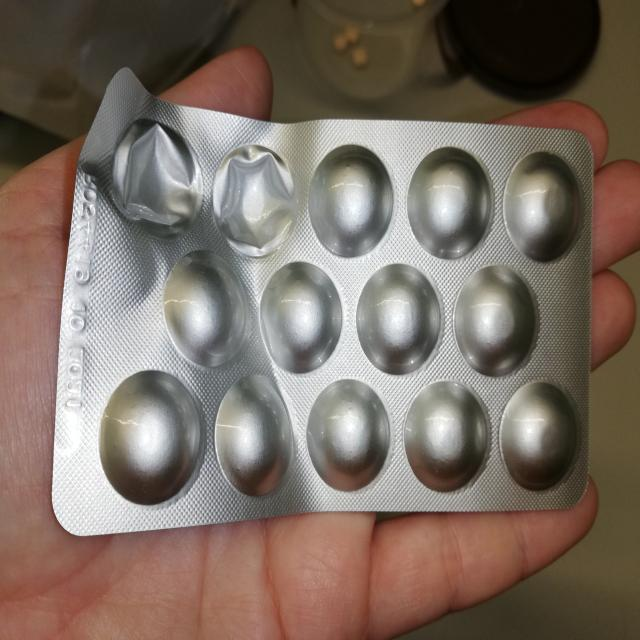Empty: (108, 115, 206, 242), (211, 138, 299, 258)
Pill: (95, 367, 209, 507), (160, 250, 254, 369), (354, 261, 446, 376), (406, 145, 497, 261), (306, 141, 395, 259), (402, 379, 492, 494), (502, 149, 590, 265), (306, 379, 393, 495), (214, 375, 294, 500), (454, 263, 540, 379), (260, 262, 344, 377), (498, 381, 584, 493)
